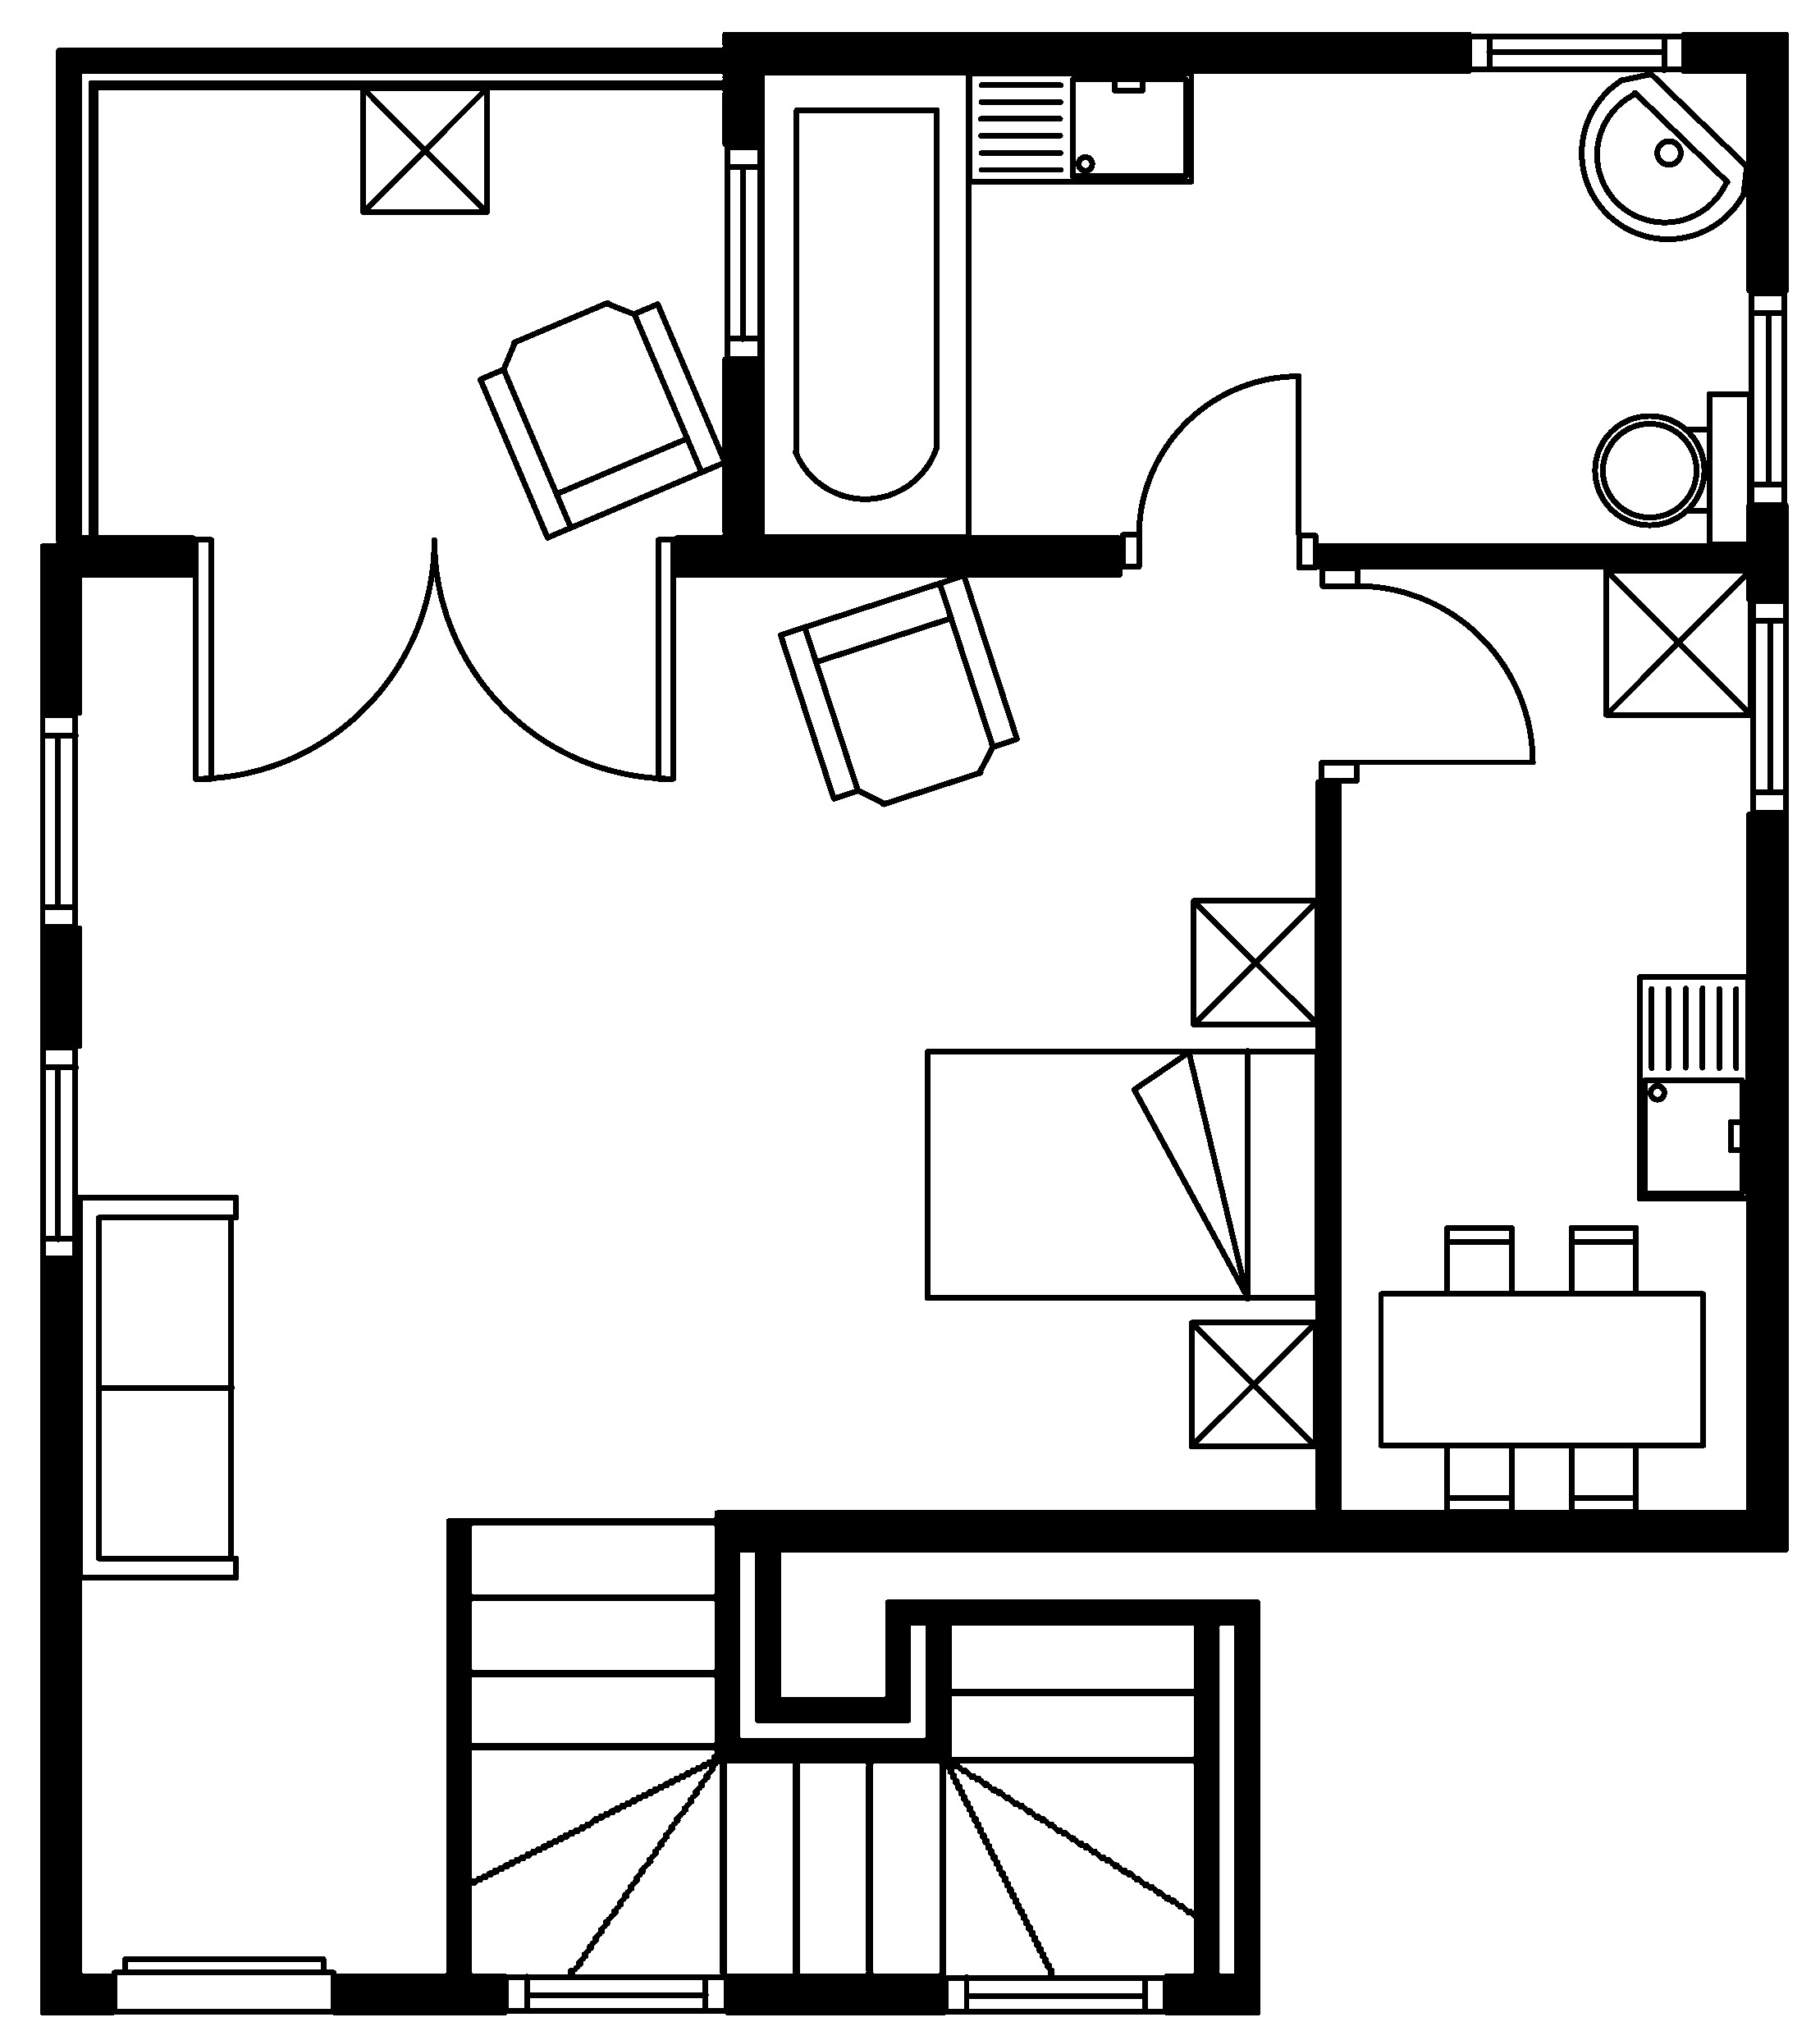armchair: (476, 299, 727, 541), (776, 571, 1021, 808)
bed: (922, 1047, 1321, 1302)
coffee_table: (1602, 566, 1753, 719), (1186, 1318, 1319, 1449), (1189, 896, 1321, 1028), (358, 84, 490, 214)
dining_table: (1376, 1223, 1706, 1516)
large_sink: (1592, 388, 1753, 548)
large_sofa: (76, 1193, 239, 1581)
sink: (1634, 972, 1751, 1202), (964, 69, 1195, 184)
small_sink: (1578, 70, 1750, 241)
tub: (757, 69, 971, 539)
